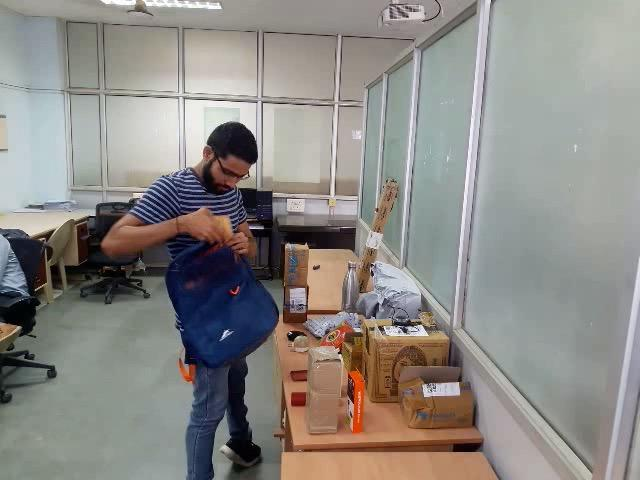shoplifting: (95, 196, 321, 343)
